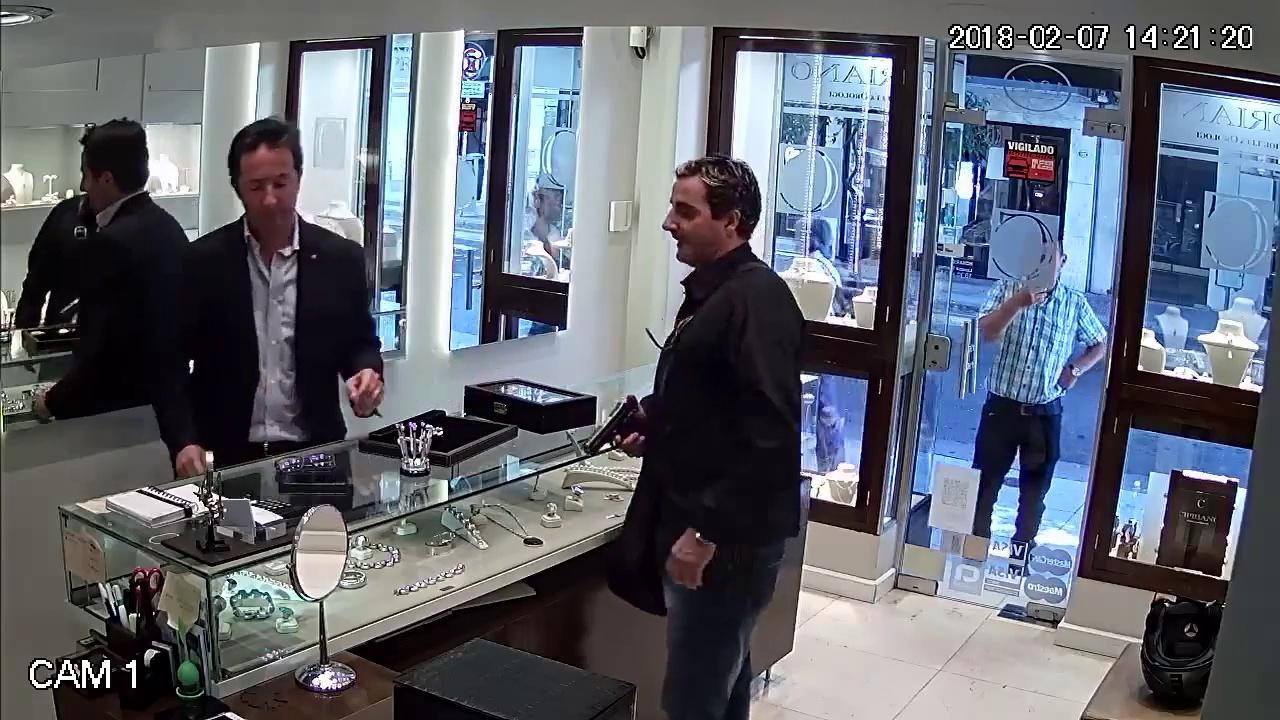Guns perspective: (573, 370, 657, 477)
